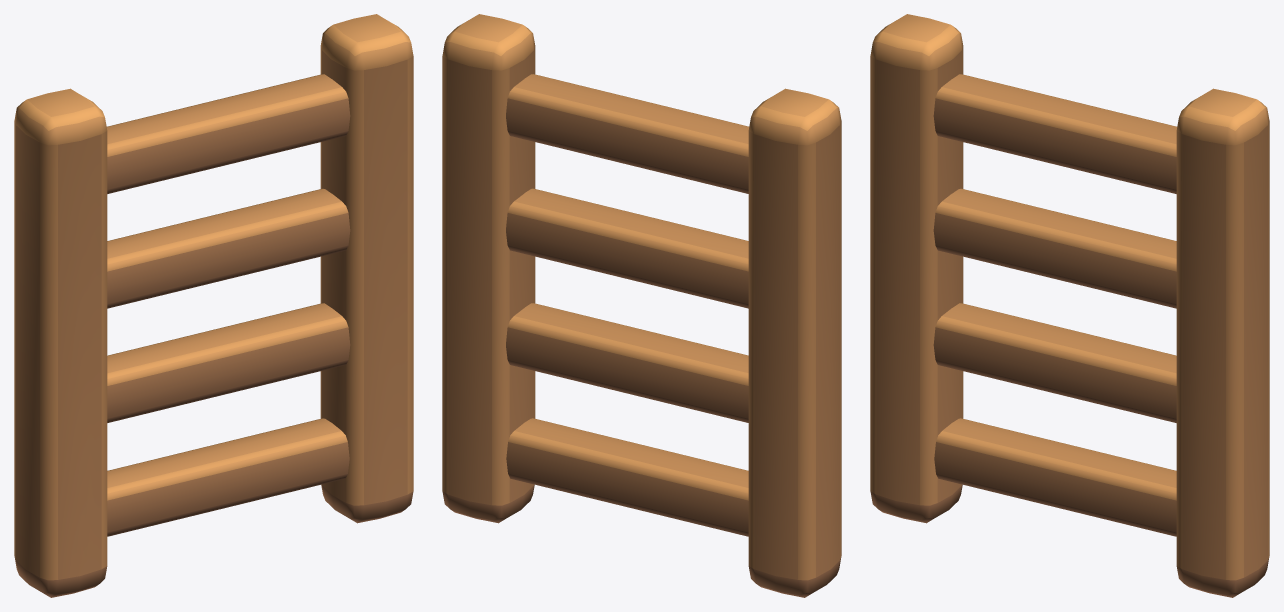
The model's file is Clay_Ladder.fbx.
3 views of the same model, side by side, from view 1: azimuth 30°, elevation 25°; view 2: azimuth 150°, elevation 25°; view 3: azimuth 330°, elevation 25° (orthographic).
Visible parts, largest first — view 1: Clay_Ladder_LOD0; view 2: Clay_Ladder_LOD0; view 3: Clay_Ladder_LOD0.
Part boxes in pixels (<box>): Clay_Ladder_LOD0: <box>14,14,413,597</box>; Clay_Ladder_LOD0: <box>442,14,841,597</box>; Clay_Ladder_LOD0: <box>870,14,1269,597</box>.
Size of what is drawn, in the model's own units: 0.8613 by 1.05 by 0.1617.
